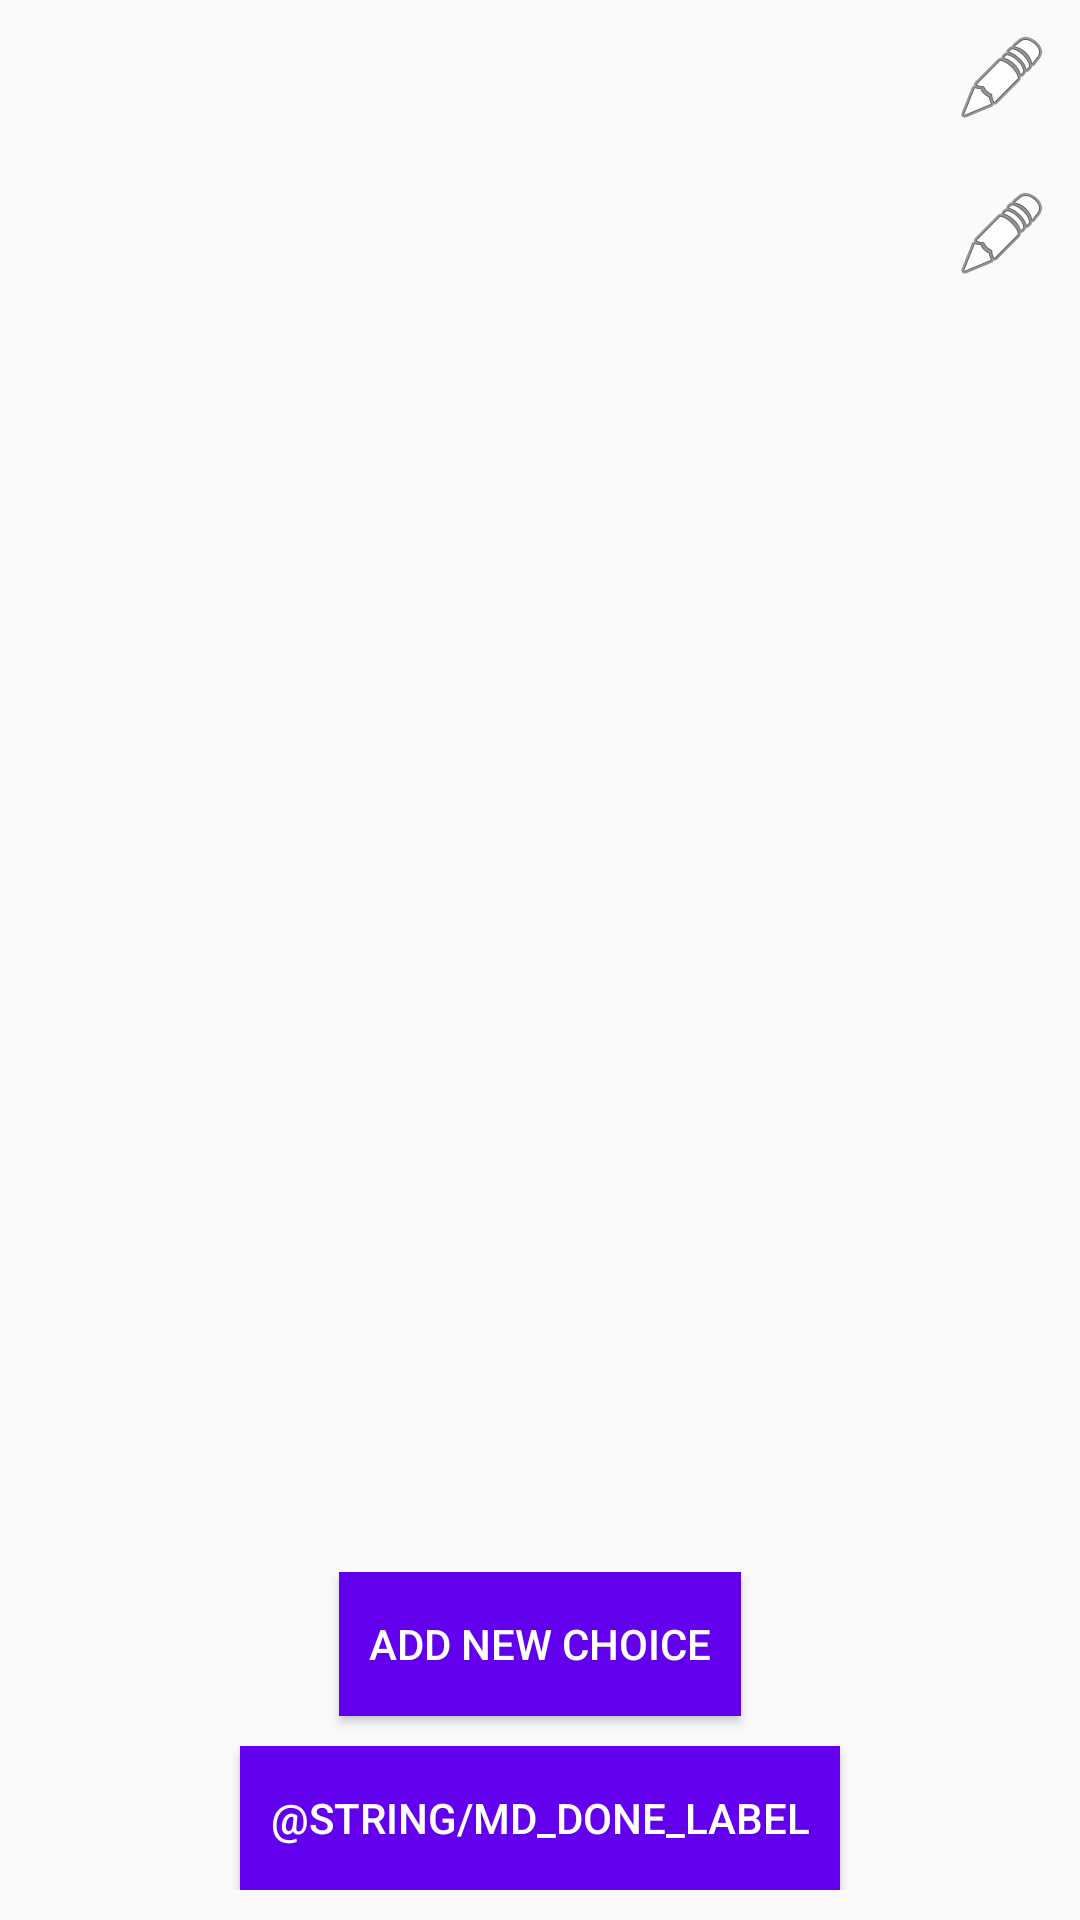

Icon click points for this 1080 × 1920 phone screenshot, format point (x, y):
edit: point (1001, 77), point (1001, 233)
